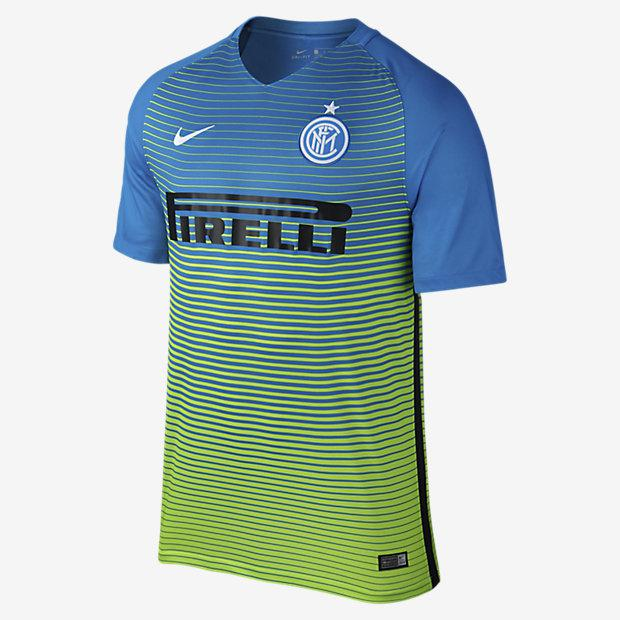teeshirt: (95, 5, 522, 620)
